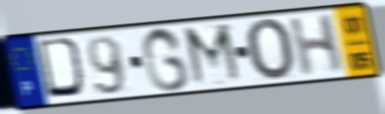9: (86, 34, 128, 97)
D: (34, 35, 90, 101)
G: (139, 25, 193, 94)
H: (287, 12, 346, 79)
M: (180, 21, 246, 89)
O: (243, 17, 297, 83)
